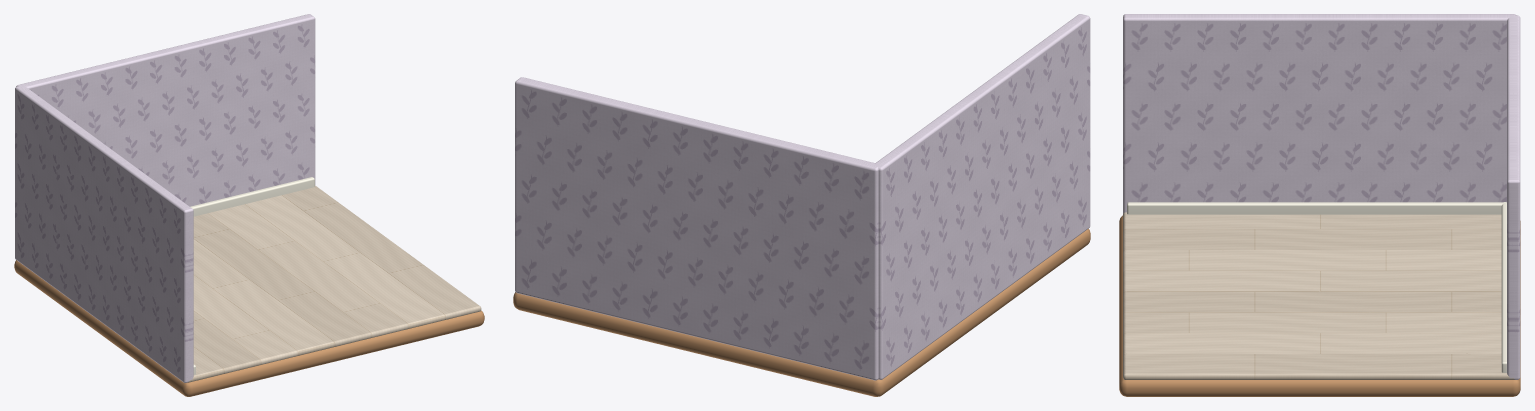
The model's file is room3.glb.
3 views of the same model, side by side, from view 1: azimuth 30°, elevation 25°; view 2: azimuth 150°, elevation 25°; view 3: azimuth 270°, elevation 25° (orthographic). The views are drawn at different scales.
Visible parts, largest first — view 1: Back wall, Cream floor, Left wall, Rounded room foundation, Back skirting; view 2: Back wall, Left wall, Rounded room foundation; view 3: Left wall, Cream floor, Rounded room foundation, Back wall, Left skirting, Back skirting.
Boxes of the visible parts, bbox=[...] form: Back wall: bbox=[16, 14, 315, 206]; Cream floor: bbox=[188, 185, 481, 382]; Left wall: bbox=[15, 85, 193, 382]; Rounded room foundation: bbox=[14, 260, 484, 396]; Back skirting: bbox=[190, 177, 314, 216]; Back wall: bbox=[515, 77, 879, 380]; Left wall: bbox=[874, 14, 1090, 379]; Rounded room foundation: bbox=[513, 229, 1090, 396]; Left wall: bbox=[1123, 14, 1515, 213]; Cream floor: bbox=[1123, 212, 1514, 379]; Rounded room foundation: bbox=[1119, 215, 1520, 396]; Back wall: bbox=[1507, 15, 1520, 379]; Left skirting: bbox=[1127, 202, 1506, 214]; Back skirting: bbox=[1501, 202, 1506, 372].
Bounding box in the file's own units: 5.1 × 3.04 × 5.1.
Materials: 4 (2 with a texture image).
